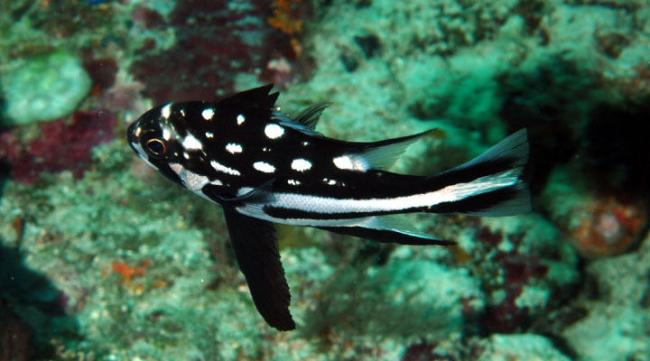fish: (126, 84, 536, 332)
